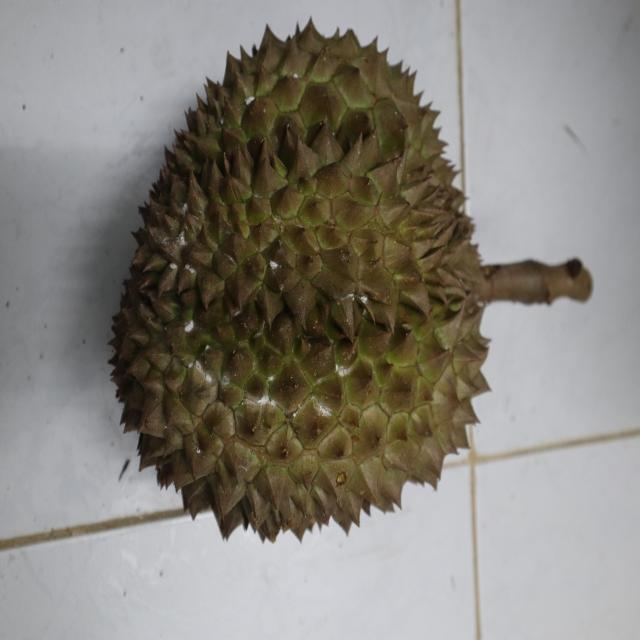mature: (107, 15, 492, 547)
